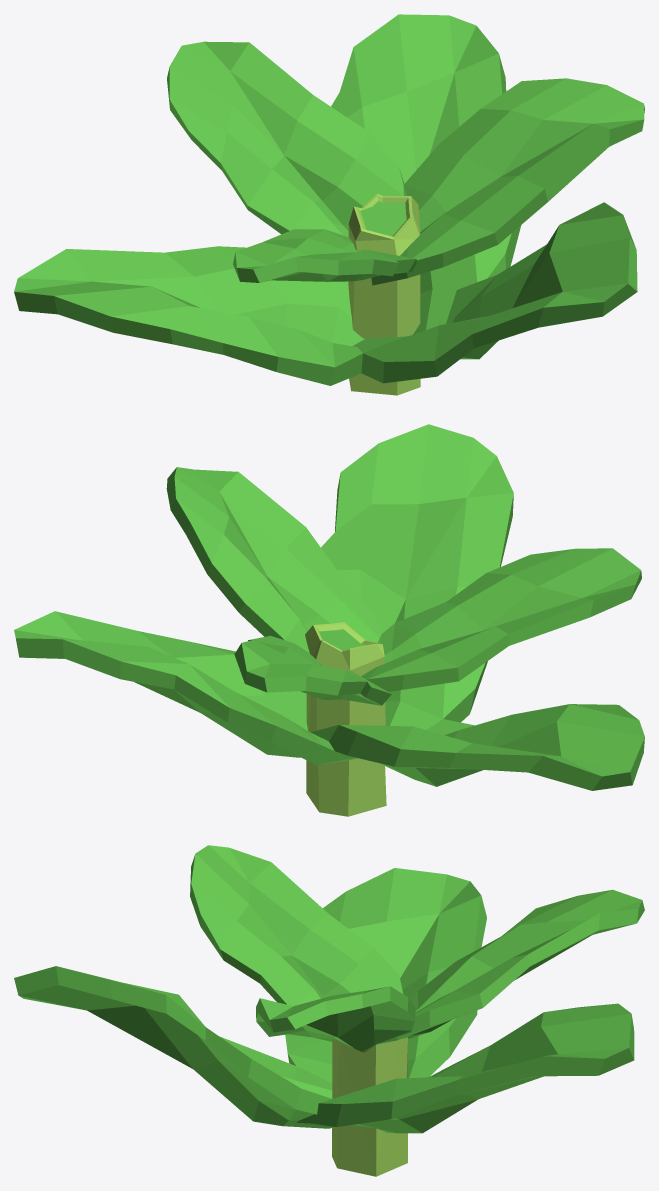
File: Broccoli_L_Collected.fbx
3 renders of one model, top to bottom at view 1: azimuth 30°, elevation 25°; view 2: azimuth 150°, elevation 25°; view 3: azimuth 270°, elevation 25°, orthographic. The views are drawn at different scales.
Visible parts, largest first — view 1: Broccoli_L_Collected; view 2: Broccoli_L_Collected; view 3: Broccoli_L_Collected.
Part boxes in pixels (box(x1,y1,x2,y2)): Broccoli_L_Collected: box(14, 14, 644, 395); Broccoli_L_Collected: box(14, 424, 644, 816); Broccoli_L_Collected: box(14, 845, 644, 1176).
Size of the model in its own units: 48.02 by 21.89 by 49.97.
